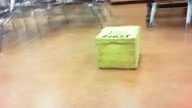cube: (95, 25, 140, 70)
